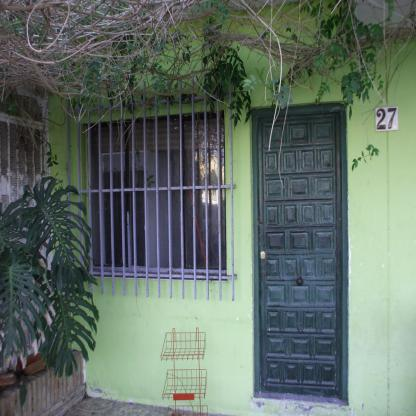door: (255, 112, 346, 402)
knob: (294, 270, 305, 288)
